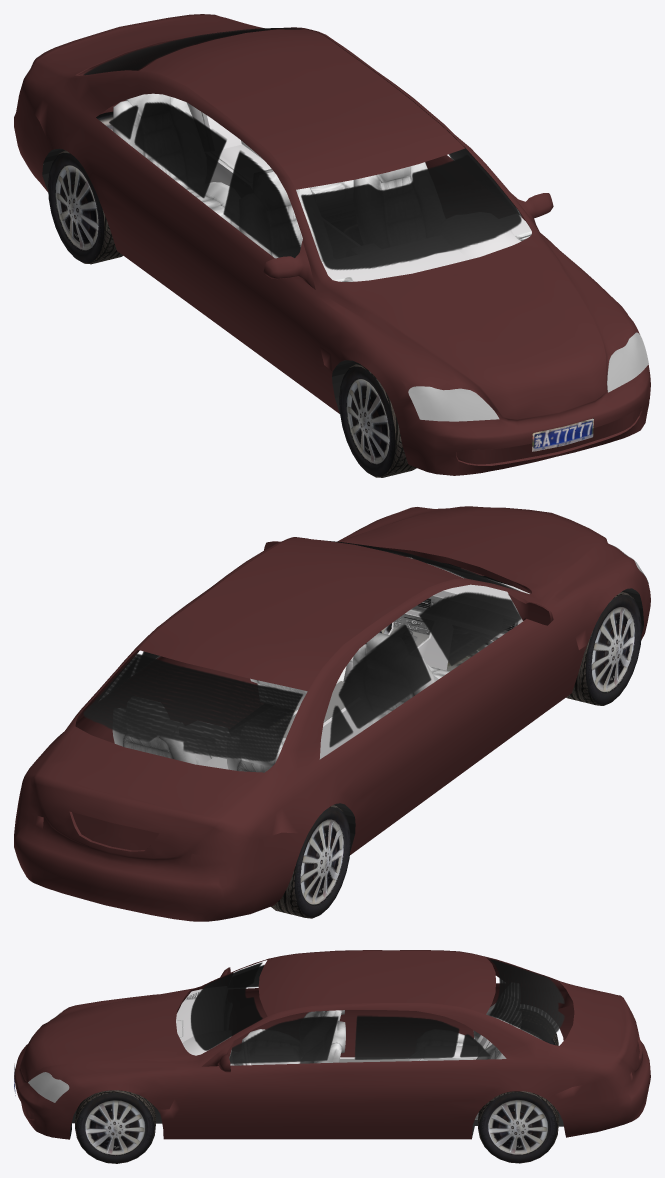
The picture shows the model from 3 angles, top to bottom: view 1: azimuth 30°, elevation 25°; view 2: azimuth 150°, elevation 25°; view 3: azimuth 270°, elevation 25°; orthographic projection. The views are drawn at different scales.
Visible parts, largest first — view 1: CAR-094, CAR-088, CAR-087; view 2: CAR-094, CAR-088, CAR-087; view 3: CAR-094, CAR-086, CAR-085.
Boxes of the visible parts, left/top/right/bottom form: CAR-094: left=14, top=14, right=650, bottom=475; CAR-088: left=339, top=363, right=416, bottom=477; CAR-087: left=48, top=150, right=123, bottom=264; CAR-094: left=14, top=506, right=650, bottom=921; CAR-088: left=566, top=591, right=641, bottom=705; CAR-087: left=271, top=805, right=350, bottom=918; CAR-094: left=14, top=950, right=650, bottom=1139; CAR-086: left=75, top=1090, right=155, bottom=1163; CAR-085: left=478, top=1091, right=558, bottom=1163.
Bounding box in the file's own units: 2.23 × 1.59 × 6.19.
Materials: 9 (6 with a texture image).
